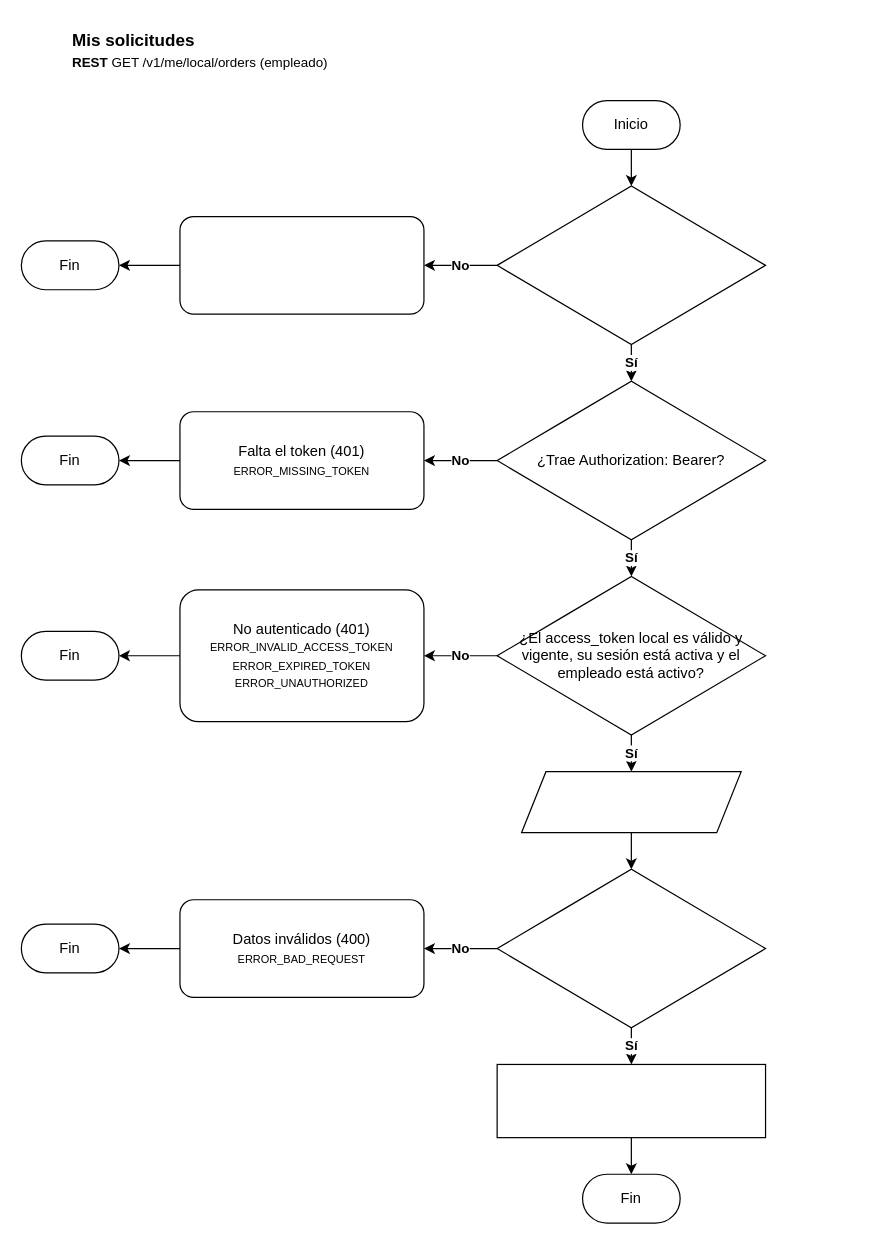
Image size: 872x1244. Some labels were removed from this diagram. Each missing label, with the box of its shape:
Recibir datos: (520, 770, 741, 833)
Responder 200 con el mensaje MY_REQUESTS_RETRIEVED: (496, 1063, 766, 1138)
Servidor sin emparejar (409) ERROR_SERVER_NOT_PAIRED: (179, 215, 424, 314)
¿El servidor ya se emparejó alguna vez (pairing_status distinto de unpaired)?: (496, 185, 766, 345)
¿Los datos son válidos?: (496, 868, 766, 1028)
